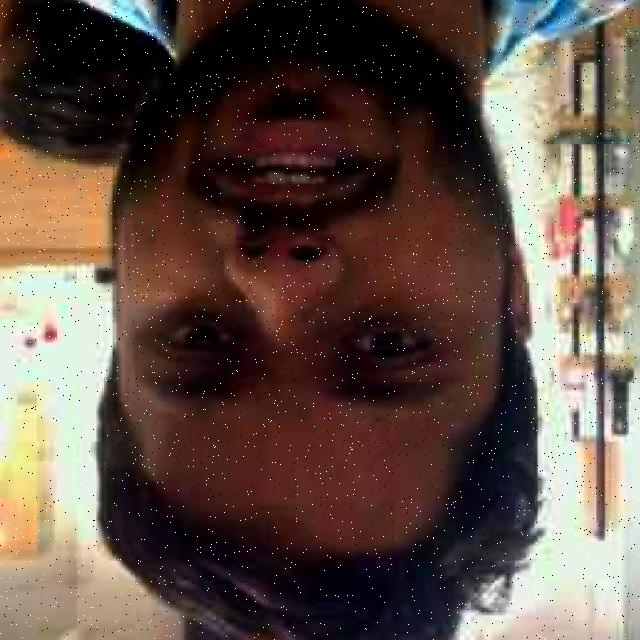puffy_eyes: (337, 300, 429, 334), (161, 302, 238, 327)
